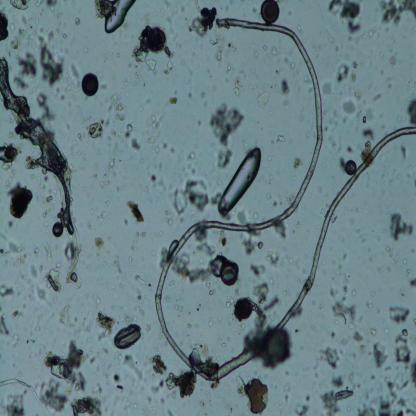Air bubble: (101, 0, 136, 34)
Background material: (214, 146, 263, 217), (206, 105, 243, 165), (45, 340, 87, 390), (6, 17, 64, 52), (357, 383, 416, 416), (30, 79, 62, 130), (328, 298, 360, 332), (246, 303, 268, 352), (40, 45, 65, 88), (263, 332, 293, 367), (176, 258, 214, 285), (332, 2, 364, 34), (388, 208, 416, 244), (377, 0, 416, 23), (25, 258, 46, 298), (71, 391, 104, 416), (393, 327, 413, 368), (186, 176, 210, 209), (42, 381, 69, 410), (172, 370, 199, 399), (196, 230, 221, 258), (386, 301, 413, 326), (193, 7, 217, 35), (18, 53, 40, 82), (131, 29, 148, 66), (124, 200, 147, 226), (146, 354, 170, 378), (209, 34, 232, 59), (43, 266, 63, 294), (123, 125, 143, 153), (320, 344, 342, 369), (144, 378, 166, 403), (85, 118, 107, 142), (95, 309, 116, 334), (372, 341, 389, 371), (188, 336, 210, 359), (5, 392, 28, 414), (126, 355, 144, 383), (119, 306, 144, 325), (322, 390, 341, 414), (69, 316, 91, 336), (263, 245, 283, 266), (5, 238, 25, 259), (262, 293, 283, 312), (242, 237, 263, 256), (252, 282, 270, 304), (11, 0, 31, 19), (172, 189, 187, 213), (90, 232, 107, 253), (123, 70, 145, 86), (85, 346, 101, 367), (256, 86, 270, 110), (59, 302, 72, 327), (41, 188, 53, 215), (0, 12, 10, 44), (280, 376, 291, 404), (111, 253, 124, 276), (0, 315, 13, 338), (324, 113, 338, 134), (278, 76, 292, 97), (160, 91, 177, 108), (398, 140, 410, 164), (109, 95, 125, 113), (133, 273, 151, 289), (358, 144, 374, 161), (342, 99, 359, 115), (248, 261, 266, 276), (340, 276, 351, 300), (175, 300, 188, 320), (335, 64, 348, 84), (292, 401, 312, 414), (229, 79, 243, 97), (73, 6, 83, 30), (162, 61, 175, 79), (112, 370, 125, 388), (407, 99, 416, 125), (130, 229, 140, 252), (328, 131, 340, 150), (330, 265, 345, 280), (365, 120, 376, 140), (277, 222, 289, 240), (408, 360, 416, 387), (331, 374, 346, 388), (55, 220, 65, 241), (0, 282, 14, 297), (106, 157, 119, 173), (120, 398, 136, 410), (352, 86, 364, 102), (145, 57, 157, 73), (44, 0, 61, 11), (210, 379, 222, 394), (163, 207, 172, 226), (198, 396, 206, 416), (367, 325, 379, 338), (382, 247, 394, 260), (65, 17, 71, 43), (388, 54, 398, 69), (321, 82, 331, 97), (368, 28, 380, 40), (368, 370, 379, 383), (347, 370, 357, 384), (213, 52, 223, 66), (353, 332, 364, 344), (226, 296, 234, 312), (329, 285, 338, 299), (404, 266, 415, 277), (236, 322, 247, 333), (159, 138, 170, 149), (338, 335, 349, 346), (149, 173, 159, 185), (213, 296, 225, 306), (219, 231, 226, 248), (365, 299, 375, 310), (307, 321, 317, 332), (258, 41, 269, 51), (224, 62, 233, 74), (146, 134, 156, 144), (212, 192, 221, 203), (328, 328, 337, 339), (312, 365, 319, 379), (270, 196, 278, 208), (385, 364, 393, 376), (188, 147, 194, 162), (270, 46, 279, 56), (293, 310, 304, 318), (370, 288, 378, 298), (165, 408, 175, 416), (186, 320, 194, 330), (410, 278, 416, 291), (296, 155, 302, 168), (141, 228, 148, 239), (170, 144, 177, 155), (279, 133, 286, 144), (352, 288, 359, 299), (196, 301, 202, 313), (358, 342, 364, 354), (209, 288, 218, 296), (105, 197, 111, 209), (140, 407, 148, 416), (203, 386, 209, 398), (373, 95, 383, 102), (350, 70, 355, 83), (104, 345, 110, 355), (296, 22, 302, 32), (304, 391, 310, 401), (159, 398, 167, 405), (219, 341, 227, 348), (295, 325, 301, 334), (348, 145, 354, 154), (296, 220, 302, 228), (226, 406, 232, 414), (290, 62, 298, 68), (169, 281, 175, 289), (342, 249, 347, 258), (138, 292, 142, 303), (209, 319, 214, 327), (98, 335, 104, 341), (403, 258, 408, 264), (353, 63, 357, 70), (116, 53, 121, 58), (389, 265, 392, 272), (379, 270, 382, 273)
Cellulose filter fibre: (0, 59, 84, 289), (0, 372, 50, 416)
Diatom: (241, 376, 270, 414), (114, 326, 144, 347), (7, 190, 31, 215), (148, 26, 169, 54), (234, 298, 255, 322), (221, 260, 240, 286), (80, 74, 100, 98), (260, 3, 280, 21), (334, 388, 355, 402), (344, 158, 358, 179), (4, 145, 17, 163)
Microfibre: (151, 10, 398, 400)
